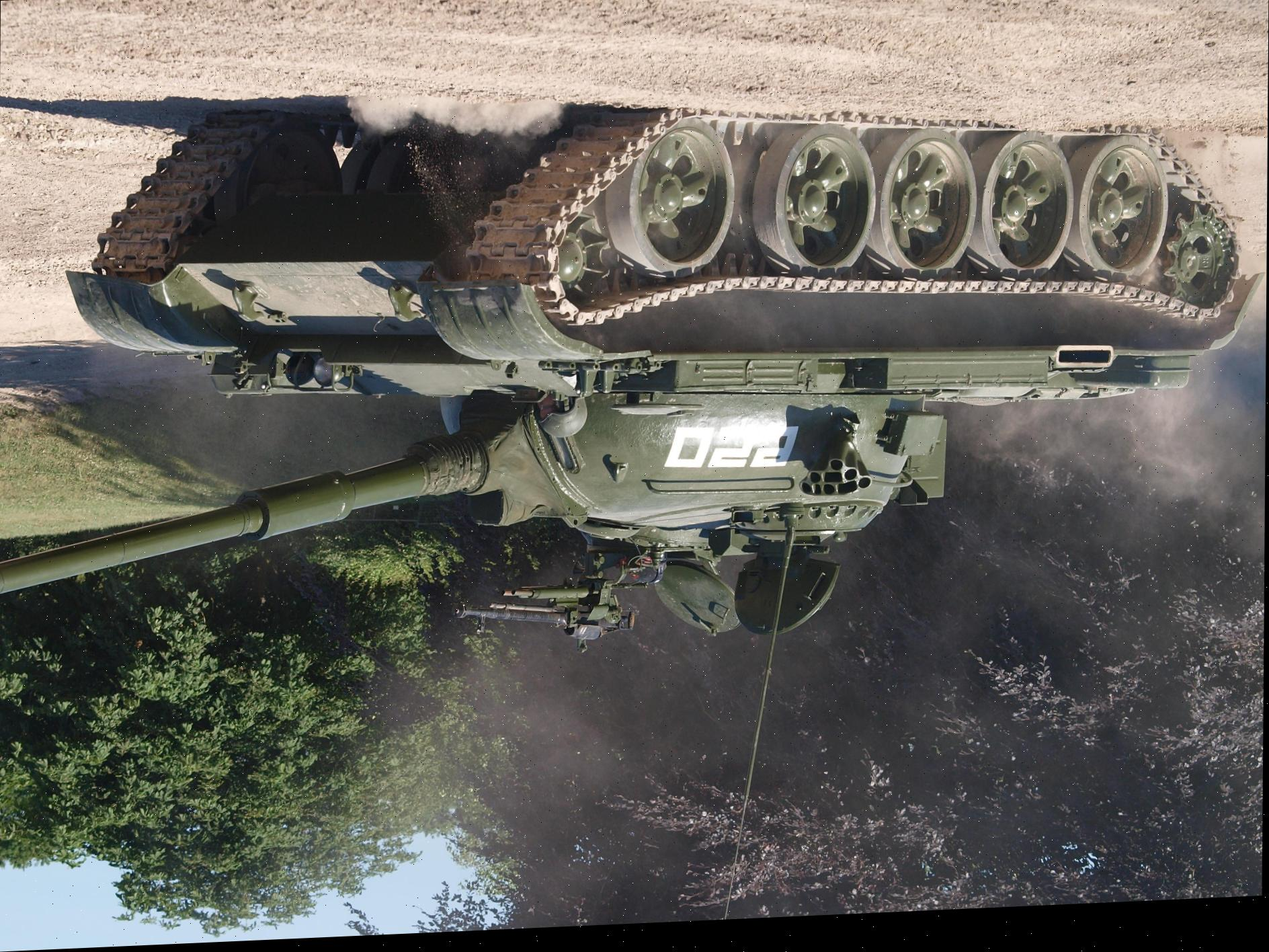tank: (0, 61, 1260, 679)
